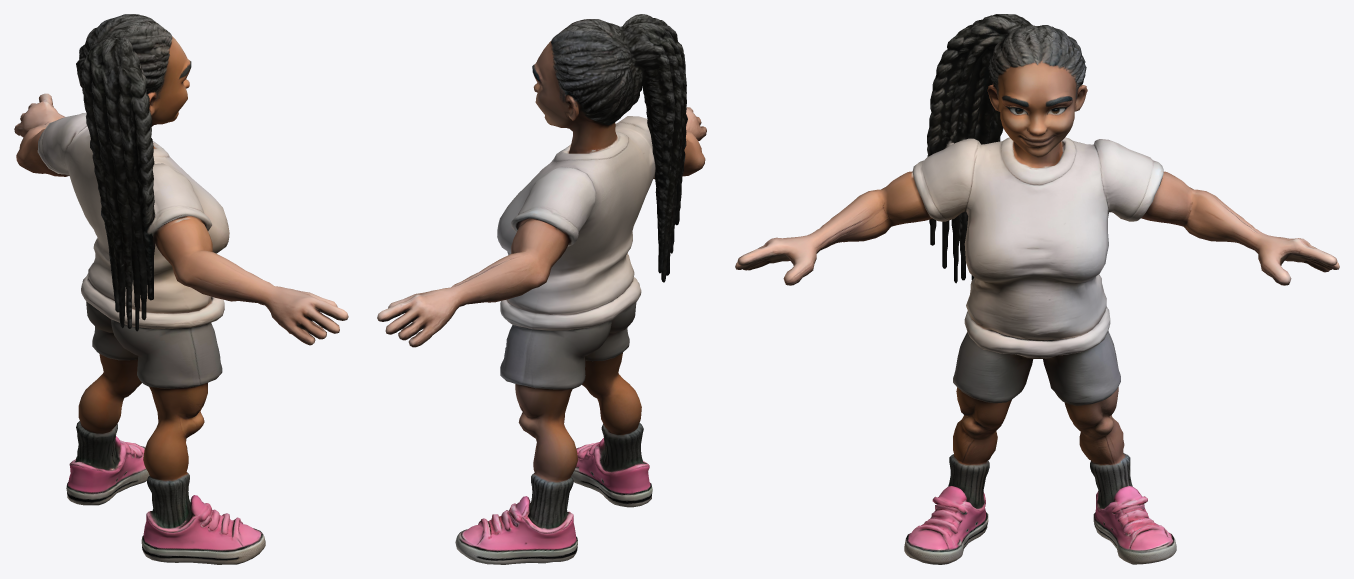
The picture shows the model from 3 angles, left to right: view 1: azimuth 30°, elevation 25°; view 2: azimuth 150°, elevation 25°; view 3: azimuth 270°, elevation 25°; orthographic projection.
Parts seen in each view (by area): view 1: tripo_node_5bcea18c; view 2: tripo_node_5bcea18c; view 3: tripo_node_5bcea18c.
Boxes of the visible parts, <box> form: tripo_node_5bcea18c: <box>14,14,348,564</box>; tripo_node_5bcea18c: <box>377,14,706,564</box>; tripo_node_5bcea18c: <box>735,14,1339,564</box>.
Bounding box in the file's own units: 27.01 × 91.59 × 100.
Materials: 1 (1 with a texture image).
